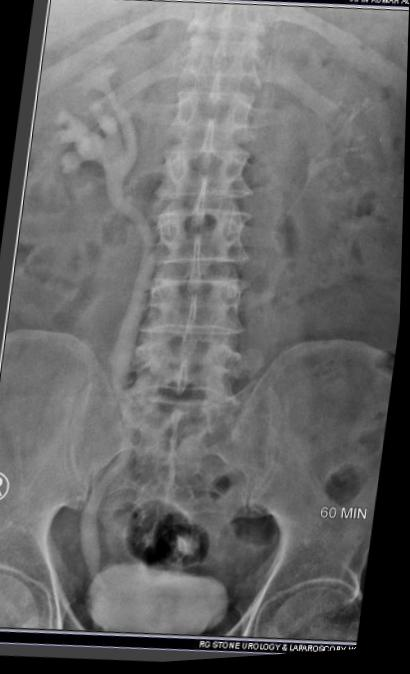bladder: (66, 562, 233, 665)
vertebrae: (159, 78, 252, 151)
